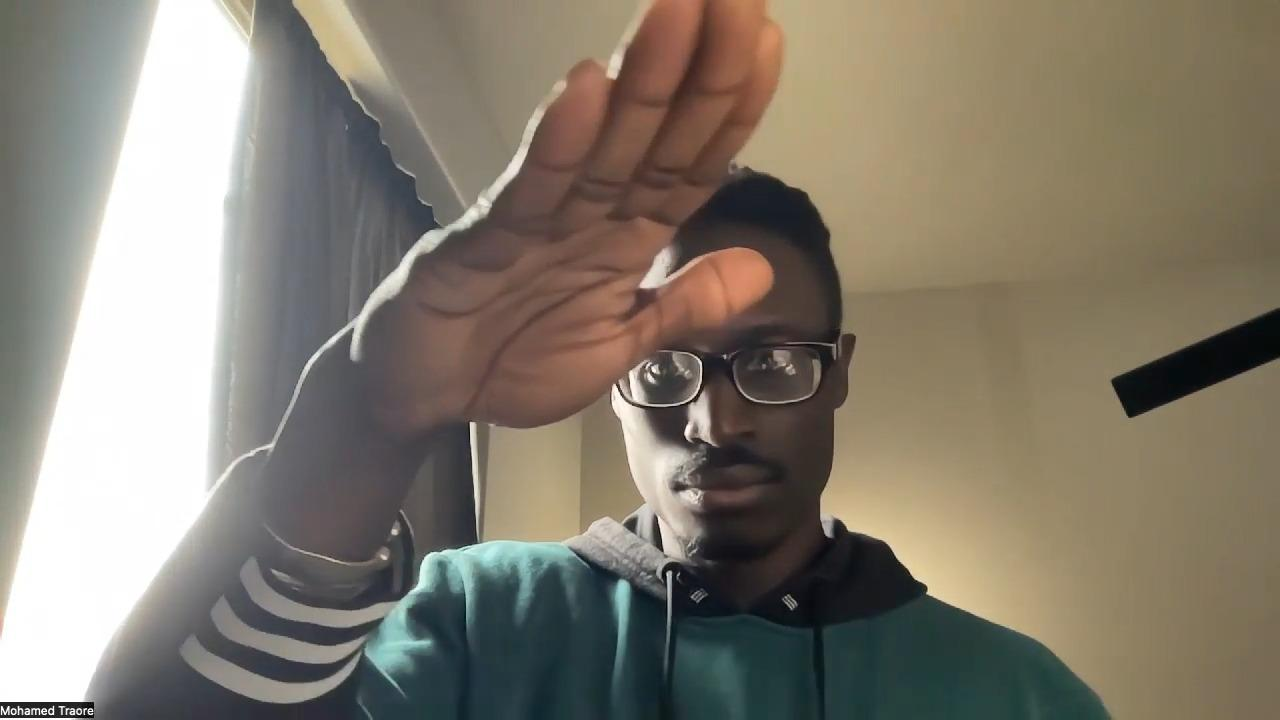Paper: (352, 0, 786, 428)
